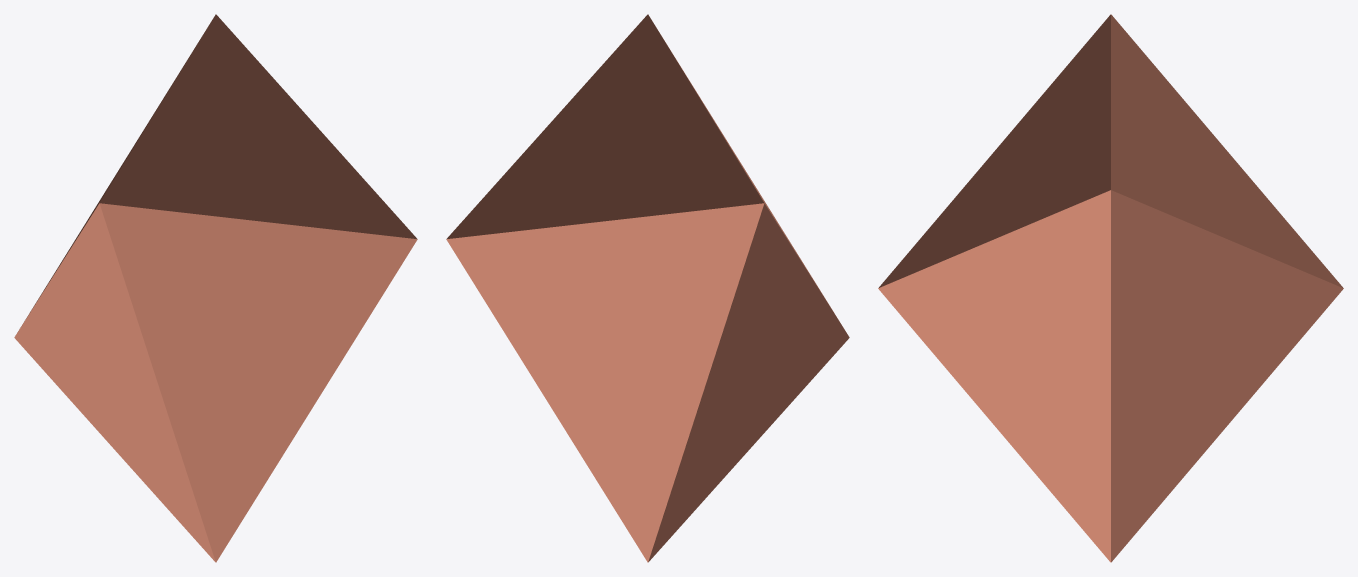
File: balloon.glb
3 views of the same model, side by side, from view 1: azimuth 30°, elevation 25°; view 2: azimuth 150°, elevation 25°; view 3: azimuth 270°, elevation 25° (orthographic).
Bounding box in the file's own units: 2 × 2.6 × 2.
